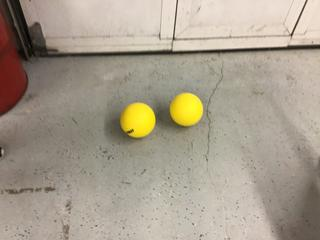power_cell: (166, 90, 209, 132), (119, 100, 159, 142)
